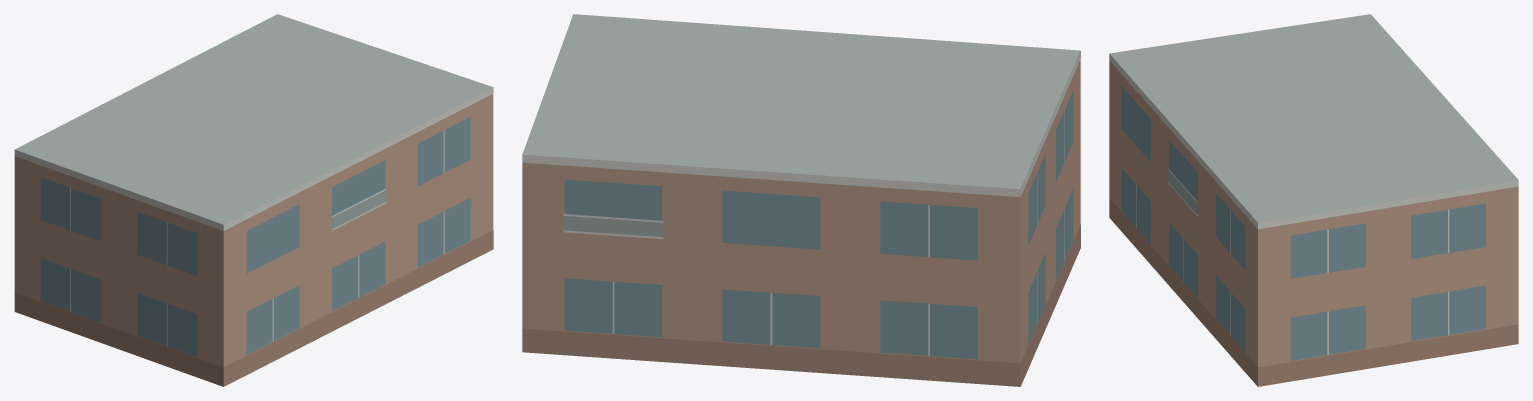
File: survey-upis-32854558.glb
3 views of the same model, side by side, from view 1: azimuth 30°, elevation 25°; view 2: azimuth 150°, elevation 25°; view 3: azimuth 270°, elevation 25° (orthographic). The views are drawn at different scales.
Visible parts, largest first — view 1: survey-upis-32854558.tmp; view 2: survey-upis-32854558.tmp; view 3: survey-upis-32854558.tmp.
Boxes of the visible parts, bbox=[...] form: survey-upis-32854558.tmp: bbox=[14, 14, 493, 386]; survey-upis-32854558.tmp: bbox=[522, 14, 1080, 386]; survey-upis-32854558.tmp: bbox=[1109, 14, 1518, 386].
Size of the model in its own units: 16.66 by 6.1 by 13.8.
